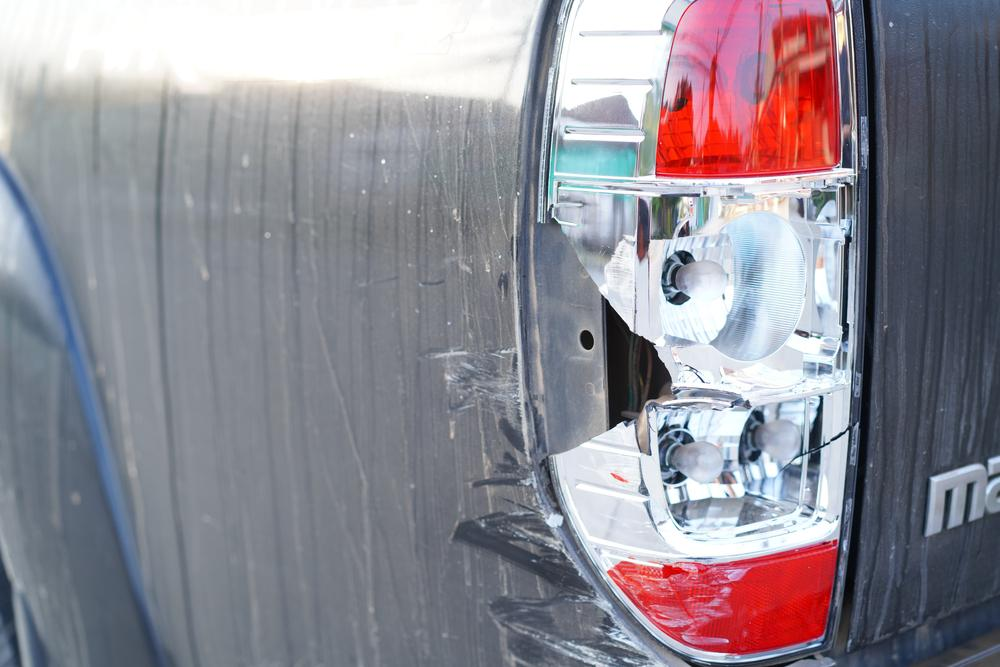lamp broken: (533, 0, 864, 667)
scratch: (428, 339, 668, 667)
